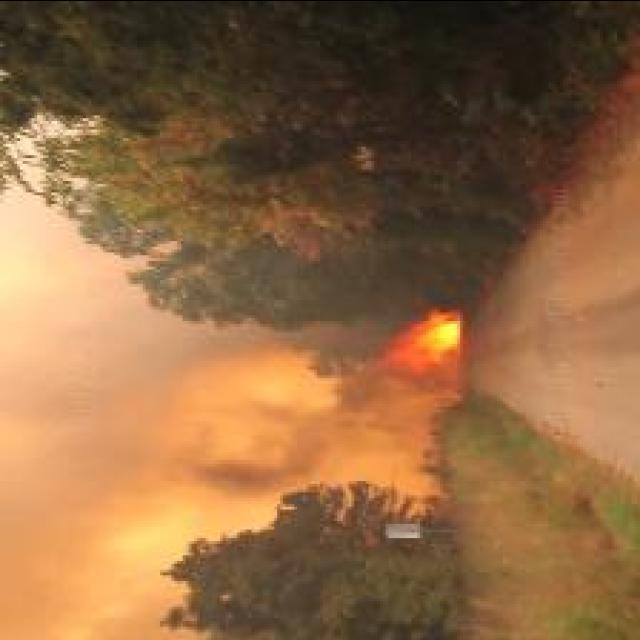Fire: (387, 308, 459, 376)
